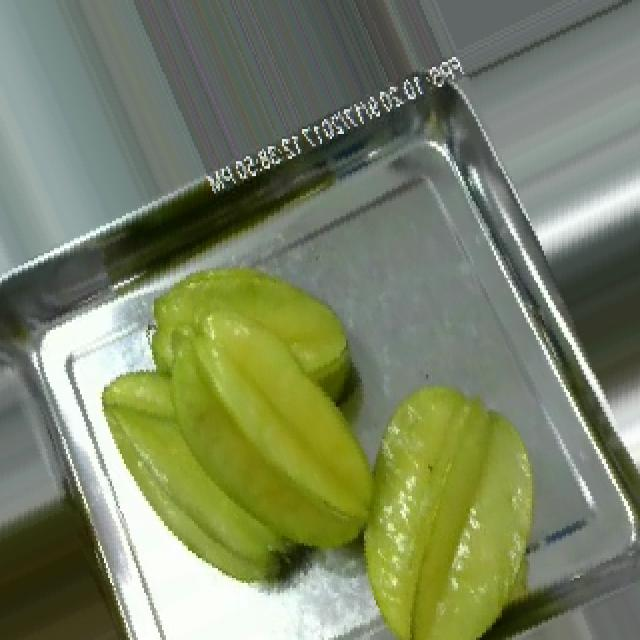fruit: (94, 221, 430, 610), (318, 340, 592, 640), (0, 486, 164, 640)
